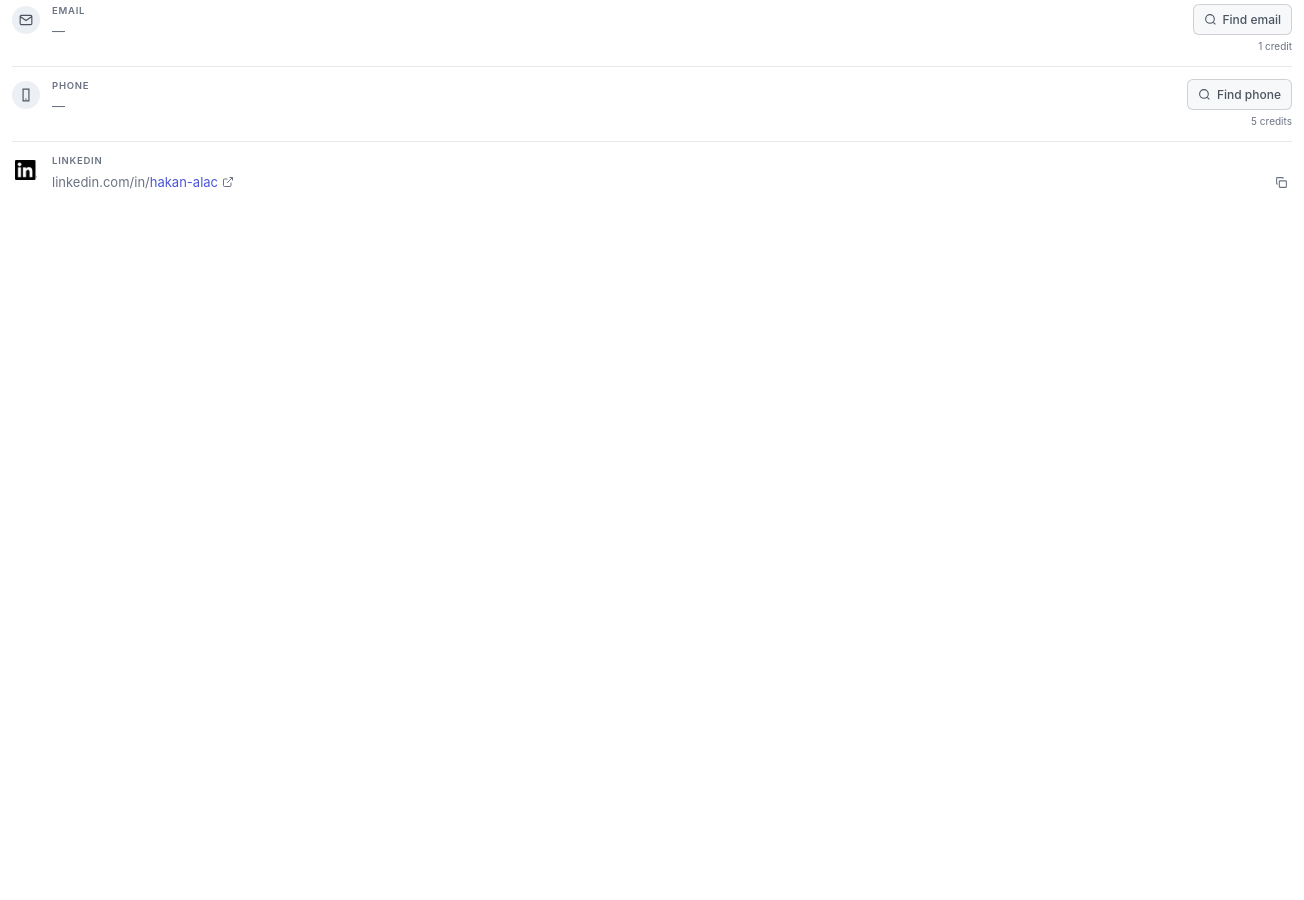
it: ContactPanel › keeps a missing-profile refusal inside the section, and toasts everything else
What coordinates should you click on to do the following:
click the button "Find email"
I would click on:
 (1242, 20)
Its box is [1192,4,1292,35].
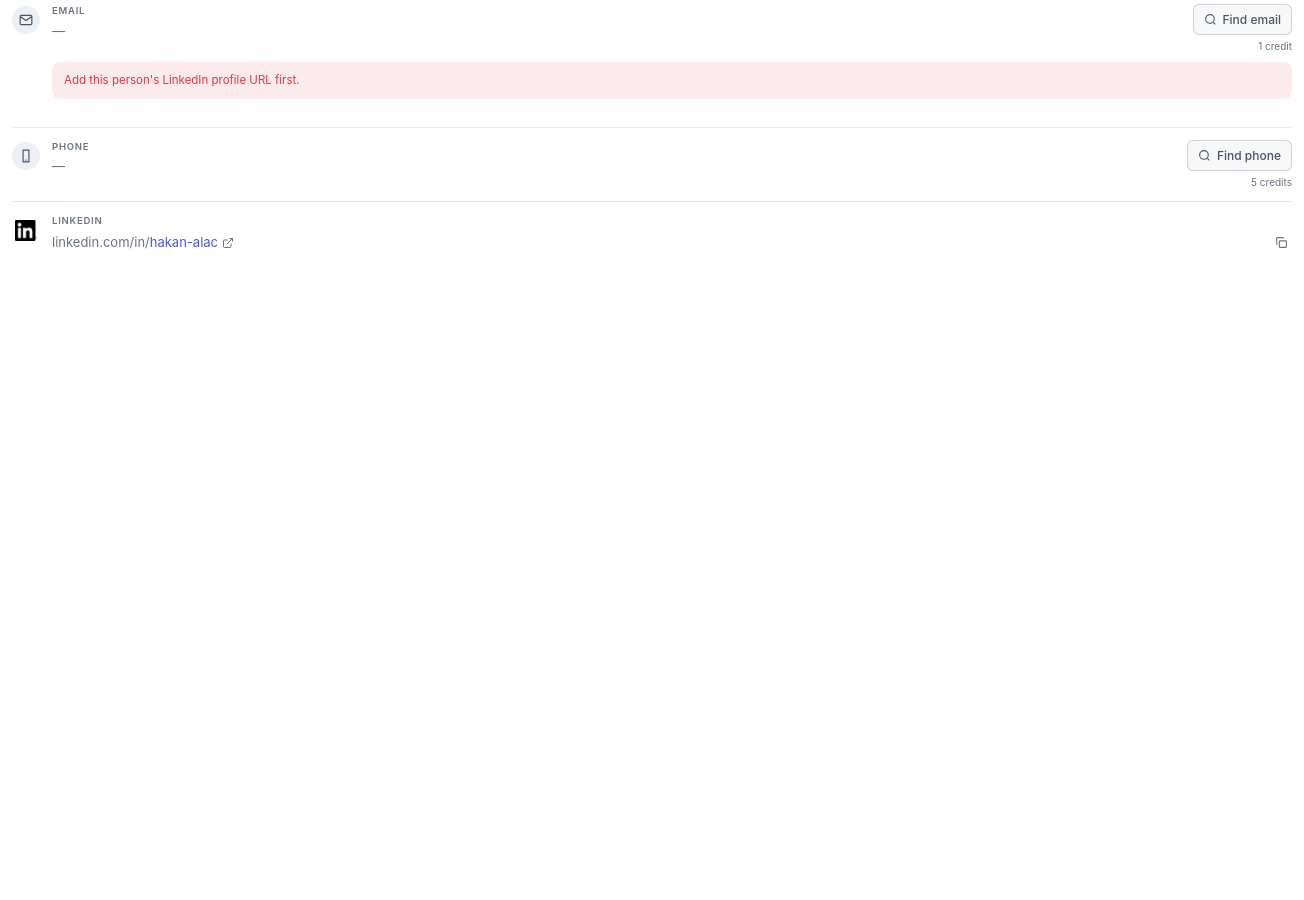
Expected: the message shows "LinkedIn profile URL first", [64,73,300,87]
What coordinates should you click on to do the following:
click the button "Find phone"
I would click on:
 (1239, 155)
Its box is [1187,140,1292,171].
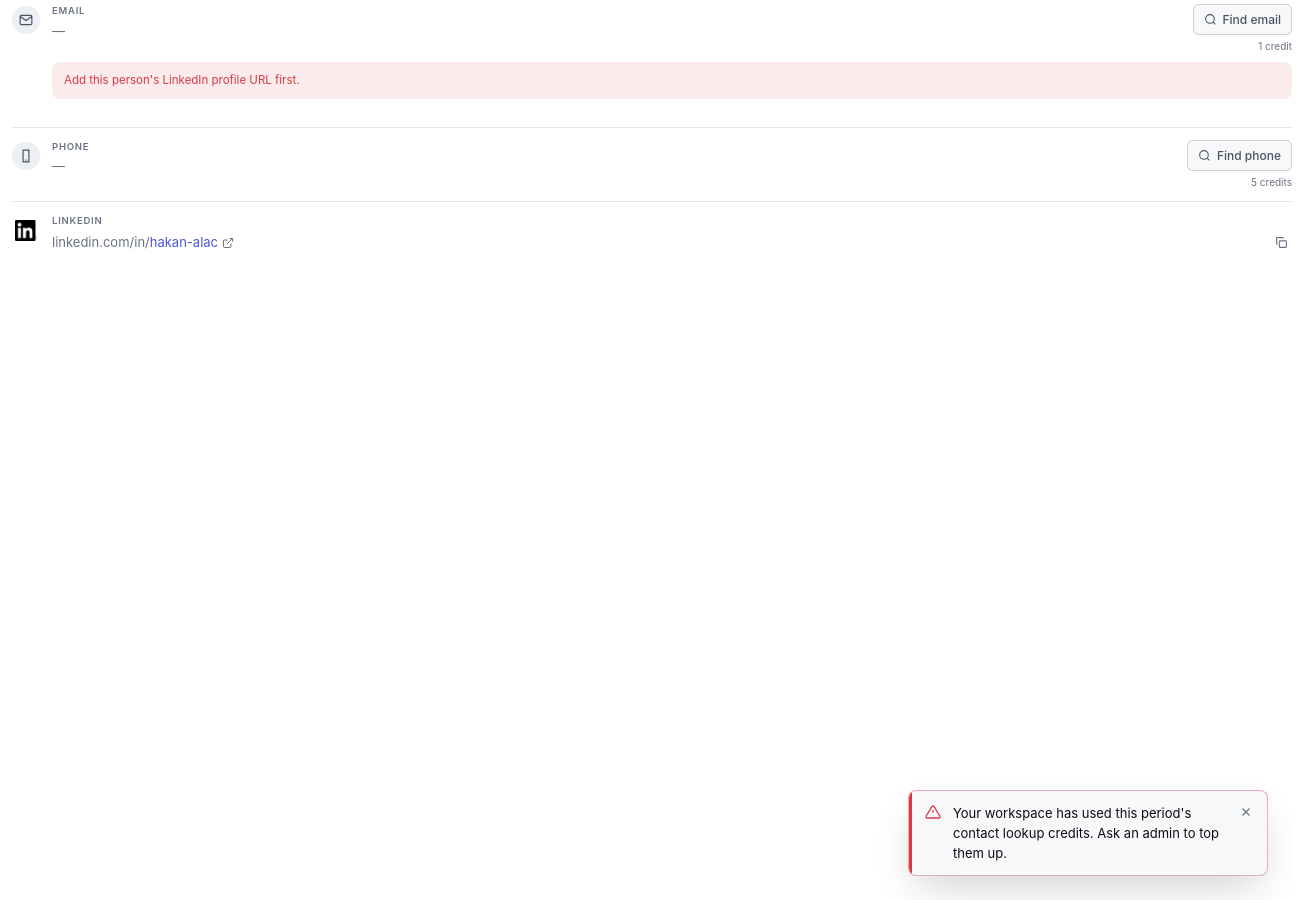
Expected: the text "used this period's contact lookup credits" is shown, [953,805,1219,861]
